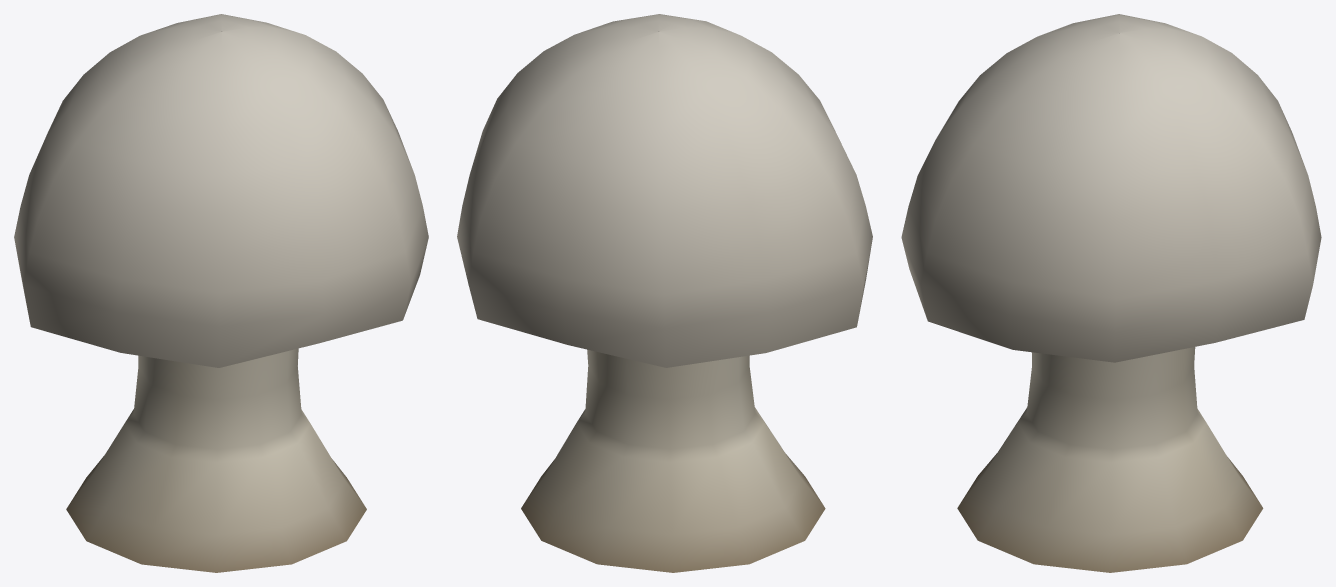
The model's file is mushroom-glow-b.glb.
3 views of the same model, side by side, from view 1: azimuth 30°, elevation 25°; view 2: azimuth 150°, elevation 25°; view 3: azimuth 270°, elevation 25° (orthographic).
Parts seen in each view (by area): view 1: mushroom-glow-b; view 2: mushroom-glow-b; view 3: mushroom-glow-b.
Boxes of the visible parts, bbox=[...] form: mushroom-glow-b: bbox=[14, 14, 428, 572]; mushroom-glow-b: bbox=[457, 14, 872, 572]; mushroom-glow-b: bbox=[901, 14, 1321, 572].
Size of the model in its own units: 0.2149 by 0.25 by 0.1983.
